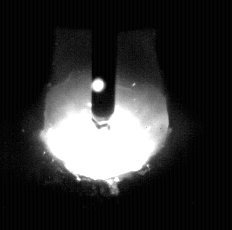arame: (93, 0, 117, 120)
poca: (39, 0, 168, 230)
